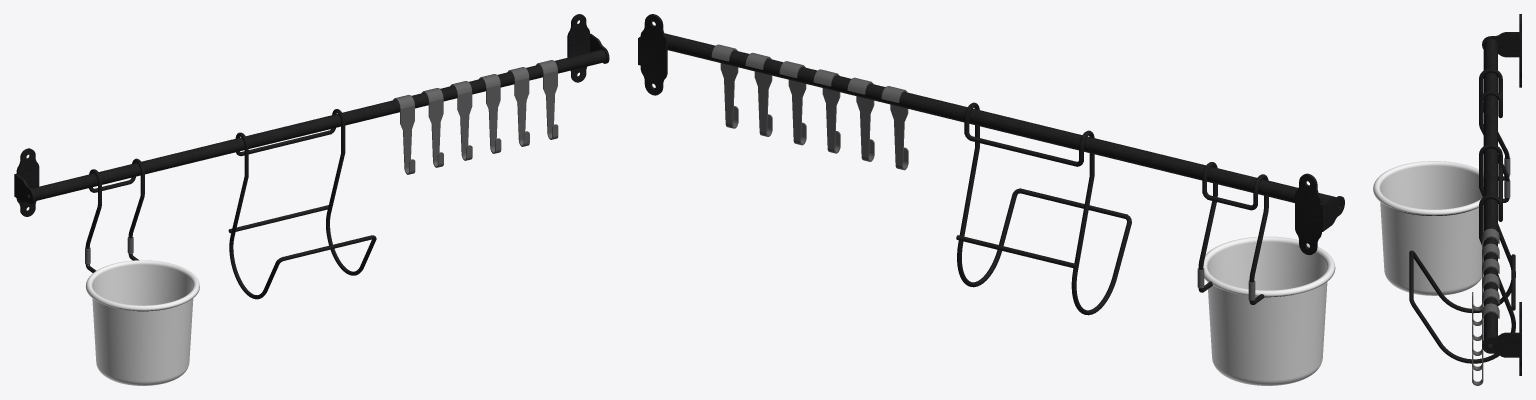
File: 100 - stand divari jadid meshki goldan sefid.glb
3 views of the same model, side by side, from view 1: azimuth 30°, elevation 25°; view 2: azimuth 150°, elevation 25°; view 3: azimuth 270°, elevation 25° (orthographic). The views are drawn at different scales.
Visible parts, largest first — view 1: Group#30 [90073], Group#5 [89251], Group#1 [117095] (×6), Group#14 [89264], [73408], [87820], [88703]; view 2: Group#30 [90073], Group#5 [89251], Group#1 [117095] (×6), Group#14 [89264], [87820], [73408], [88703], Group#15 [89263], Group#159 [88356]; view 3: Group#30 [90073], Group#5 [89251], Group#14 [89264], Group#1 [117095] (×6), Group#159 [88356] (×2), [73408], Group#15 [89263], [88703], [87820].
Boxes of the visible parts, bbox=[...] form: Group#30 [90073]: bbox=[85, 260, 199, 385]; Group#5 [89251]: bbox=[32, 49, 606, 201]; Group#1 [117095] (×6): bbox=[393, 60, 558, 174]; Group#14 [89264]: bbox=[229, 109, 376, 299]; [73408]: bbox=[85, 158, 175, 311]; [87820]: bbox=[567, 14, 589, 82]; [88703]: bbox=[16, 148, 39, 216]; Group#30 [90073]: bbox=[1203, 236, 1335, 385]; Group#5 [89251]: bbox=[664, 33, 1336, 203]; Group#1 [117095] (×6): bbox=[711, 44, 908, 170]; Group#14 [89264]: bbox=[957, 102, 1131, 315]; [87820]: bbox=[640, 14, 667, 95]; [73408]: bbox=[1198, 162, 1293, 304]; [88703]: bbox=[1295, 173, 1321, 255]; Group#15 [89263]: bbox=[956, 235, 1077, 268]; Group#159 [88356]: bbox=[1320, 196, 1344, 231]; Group#30 [90073]: bbox=[1373, 161, 1483, 295]; Group#5 [89251]: bbox=[1483, 39, 1497, 346]; Group#14 [89264]: bbox=[1409, 144, 1515, 363]; Group#1 [117095] (×6): bbox=[1472, 228, 1499, 385]; Group#159 [88356] (×2): bbox=[1482, 32, 1521, 357]; [73408]: bbox=[1392, 68, 1509, 215]; Group#15 [89263]: bbox=[1511, 254, 1515, 310]; [88703]: bbox=[1519, 14, 1521, 87]; [87820]: bbox=[1519, 302, 1521, 375].
Size of the model in its own units: 0.806 by 0.2792 by 0.168.
4 materials, 2 textured.
